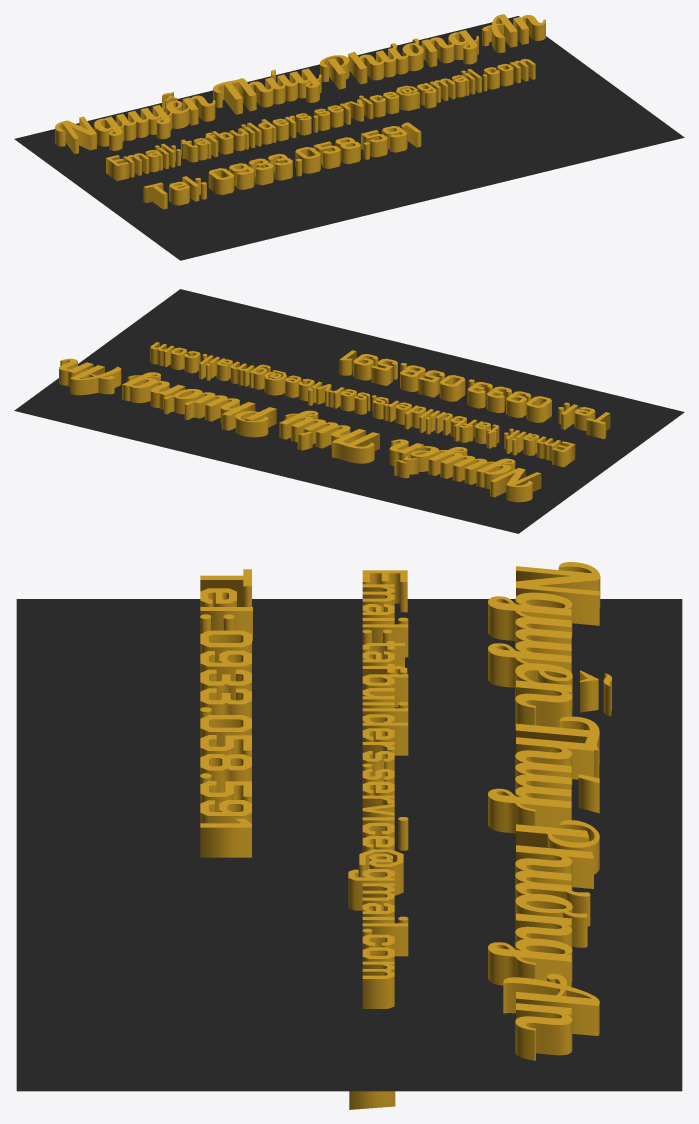
3 views of the same model, one above another, from view 1: azimuth 30°, elevation 25°; view 2: azimuth 150°, elevation 25°; view 3: azimuth 270°, elevation 25° (orthographic). The views are drawn at different scales.
Parts seen in each view (by area): view 1: Plane, Text, Text.001, Text.002; view 2: Plane, Text, Text.001, Text.002; view 3: Plane, Text, Text.001, Text.002, Text.003.
Boxes of the visible parts, x1,y1,x2,y2 form: Plane: [14, 16, 684, 260]; Text: [55, 14, 545, 154]; Text.001: [106, 59, 535, 181]; Text.002: [143, 122, 421, 209]; Plane: [14, 289, 684, 533]; Text: [59, 358, 541, 502]; Text.001: [150, 342, 575, 467]; Text.002: [339, 350, 610, 438]; Plane: [16, 599, 682, 1091]; Text: [488, 562, 611, 1060]; Text.001: [348, 570, 408, 1008]; Text.002: [200, 569, 252, 857]; Text.003: [349, 1091, 395, 1109].
Size of the model in its own units: 7 by 0.7 by 4.
